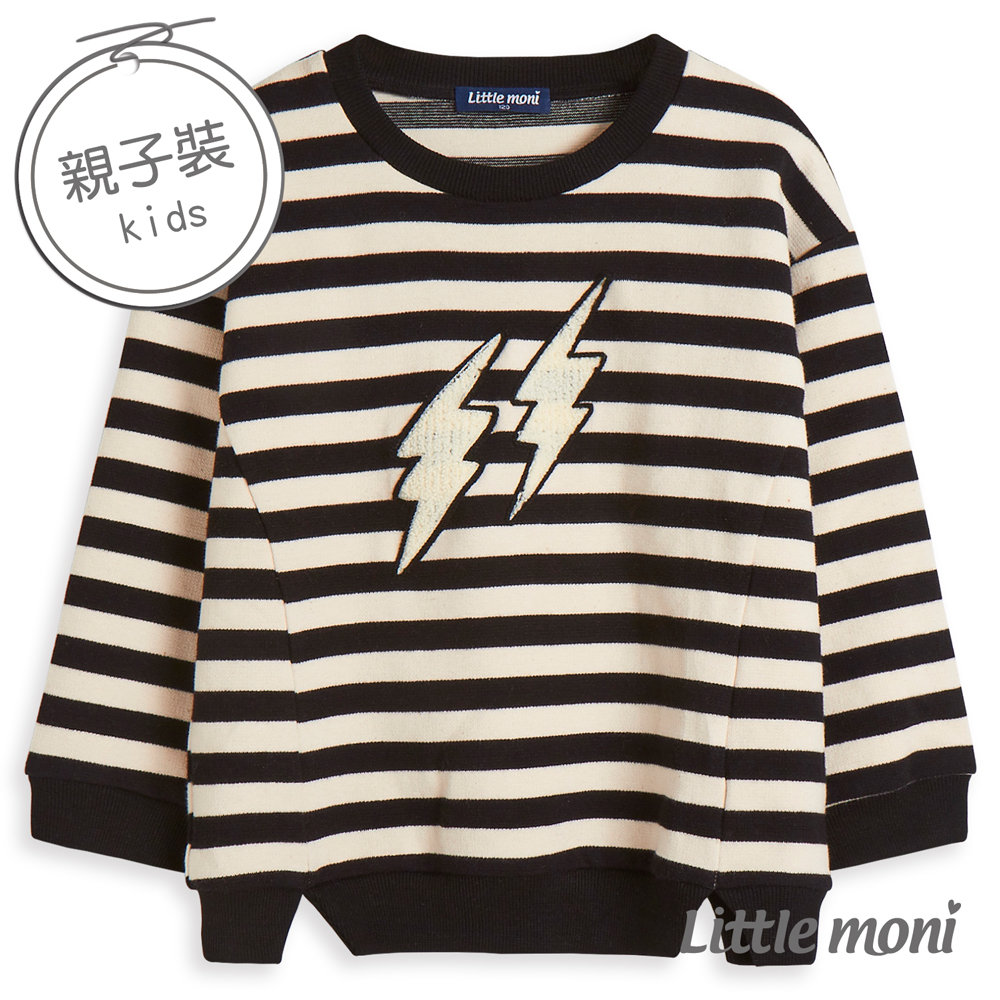flexible: (31, 14, 954, 989)
